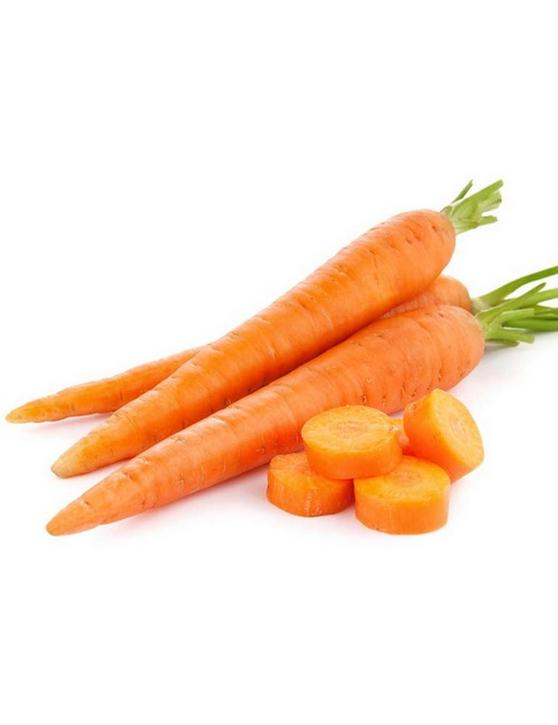carrot: (59, 201, 448, 500)
